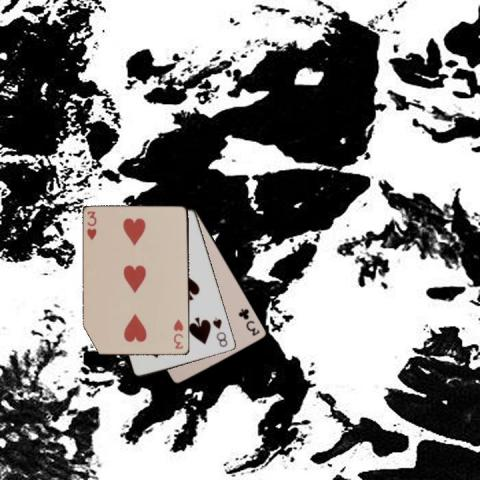3c: (236, 306, 262, 337)
3h: (170, 317, 184, 350), (84, 209, 98, 241)
8s: (210, 314, 229, 348)
